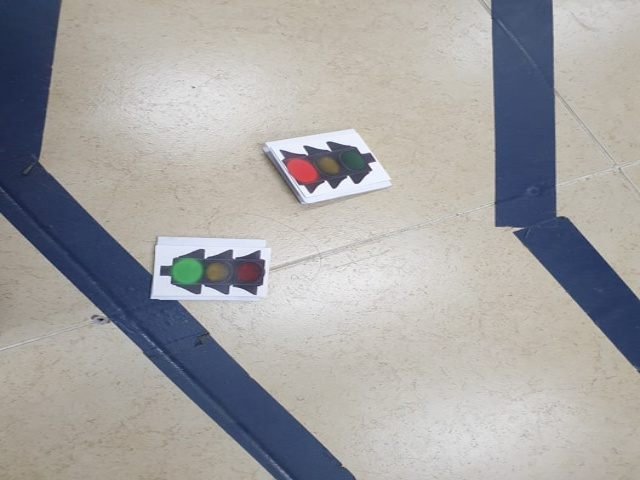Green: (160, 248, 268, 301)
Red: (278, 141, 376, 194)
